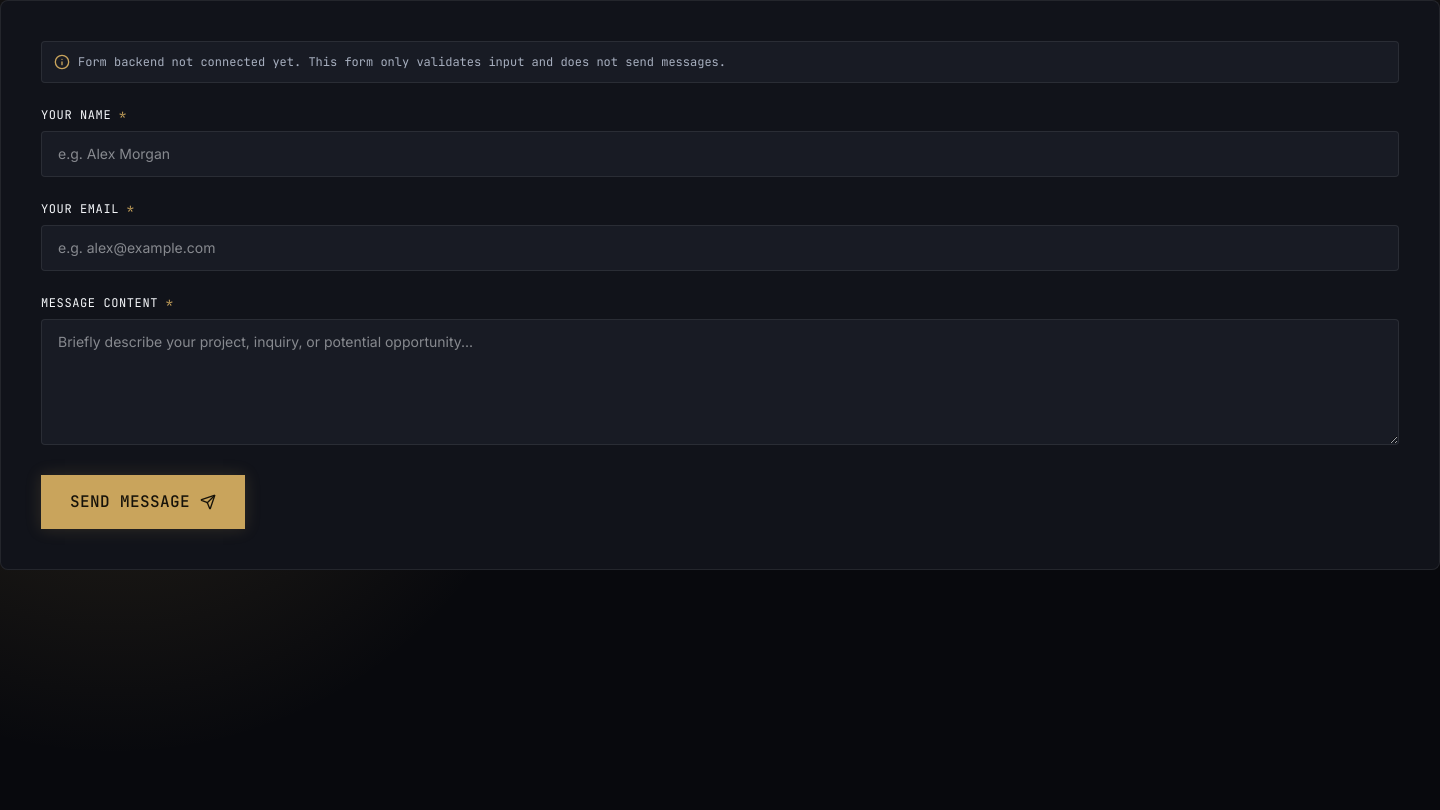
Test: ContactForm › shows validation errors and aria-invalid when submitted empty
The image size is (1440, 810).
Click the button "SEND MESSAGE" at (143, 502), box [41, 475, 245, 529]
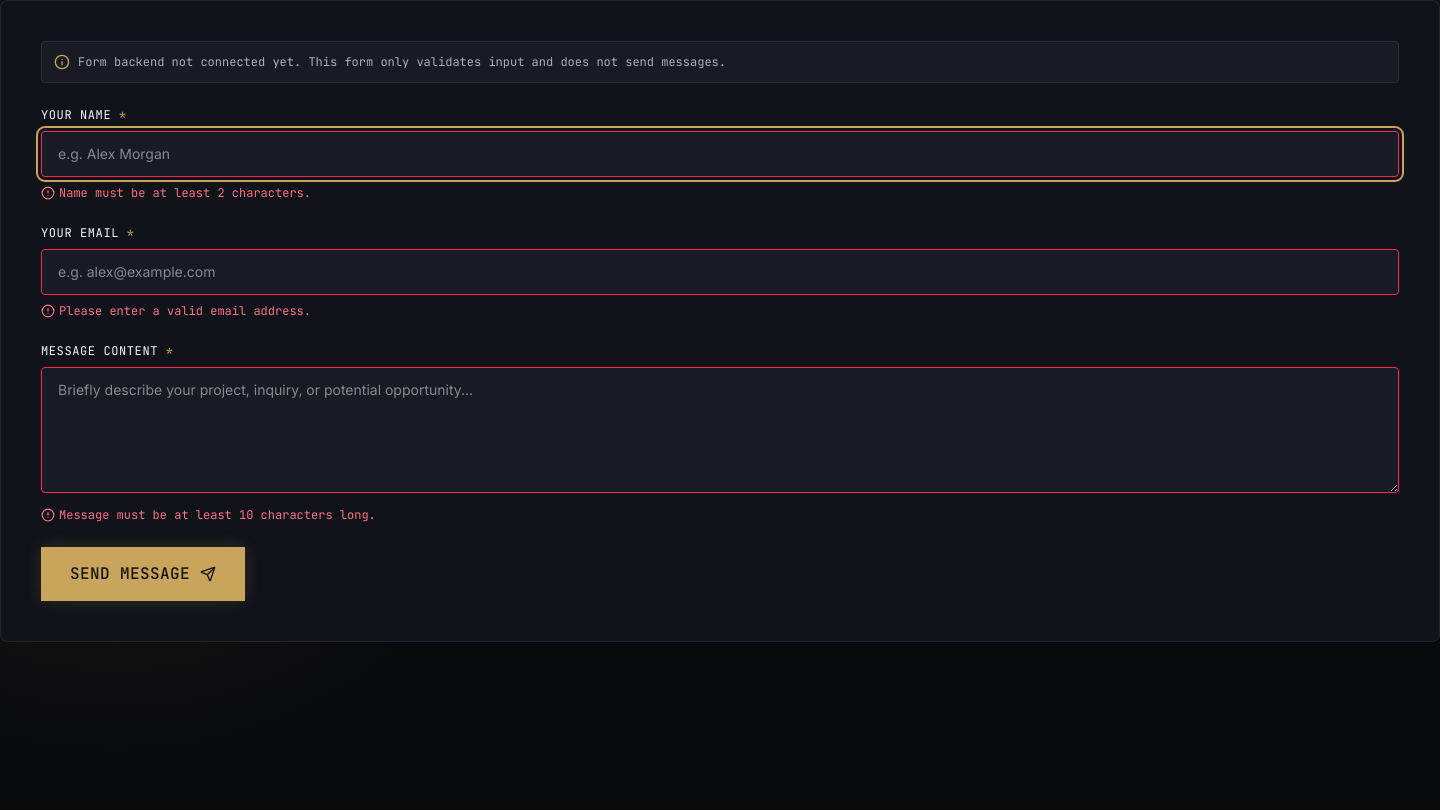
Result: the text "Name must be at least 2 characters." is shown at [59, 185, 311, 201]
Result: the text "Please enter a valid email address." is shown at [59, 303, 311, 319]
Result: the text "Message must be at least 10 characters long." is shown at [59, 507, 376, 523]
